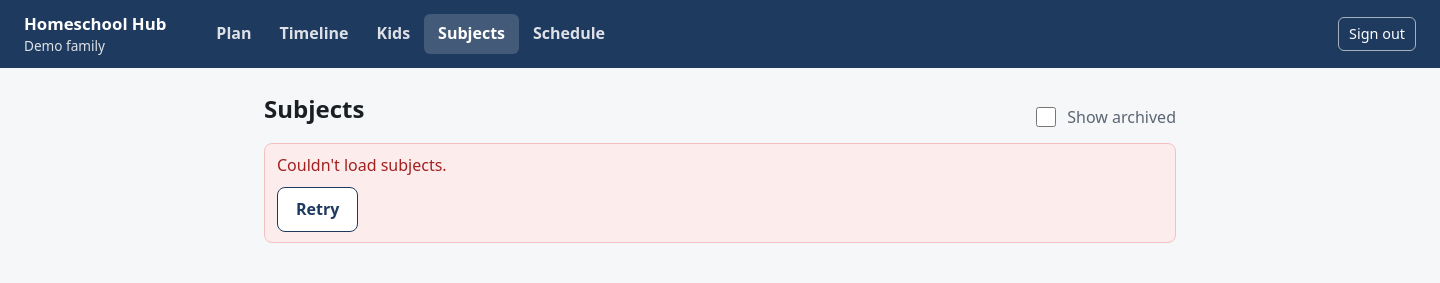
Test case: Subjects list › error → message + Retry, which refetches
Expected: the message shows "Couldn't load subjects.", x1=277 y1=154 x2=447 y2=176
What coordinates should you click on to do the following:
click the button "Retry"
I would click on:
 (318, 210)
Its box is x1=277 y1=187 x2=358 y2=232.
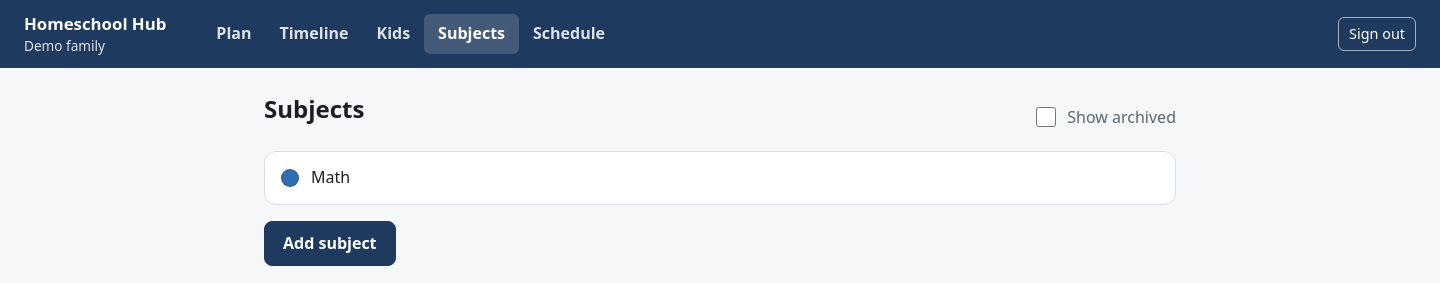
Expected: the text "Math" is shown, x1=311 y1=166 x2=350 y2=188
